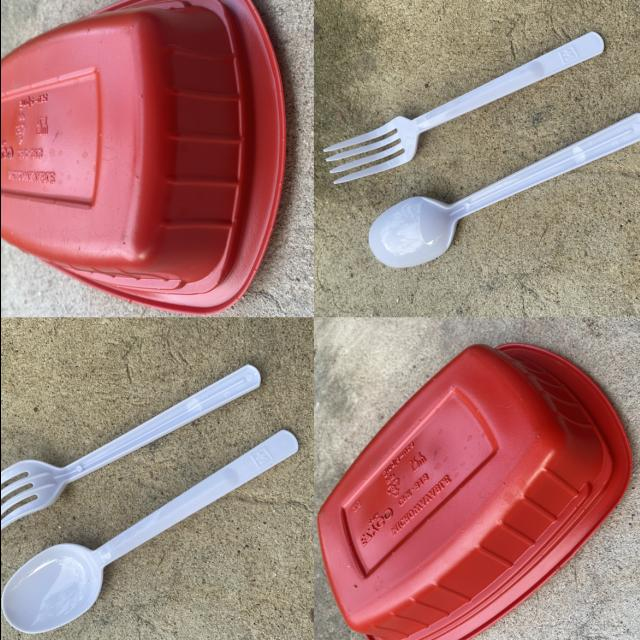plastik: (317, 343, 630, 640), (0, 0, 284, 315), (0, 432, 297, 634), (0, 365, 259, 530), (322, 32, 602, 183), (368, 114, 640, 267)
